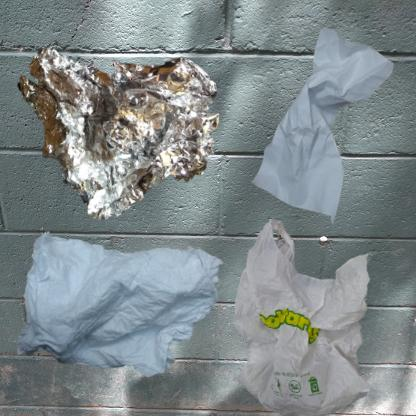aluminio: (10, 10, 249, 240)
bolsa: (213, 213, 412, 416)
papel: (213, 10, 416, 259), (10, 213, 243, 406)
